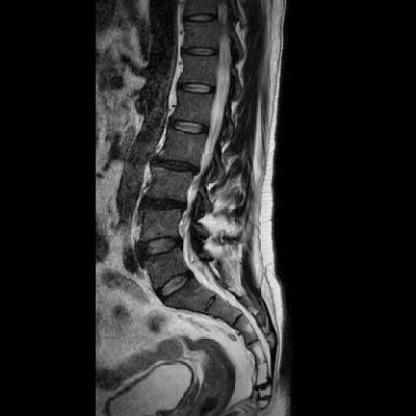Degenerative Disc Diseaserotation: (150, 156, 197, 176), (144, 193, 185, 213)
Disc Bulgerotation: (139, 234, 182, 258), (151, 156, 197, 176), (144, 193, 185, 214)
